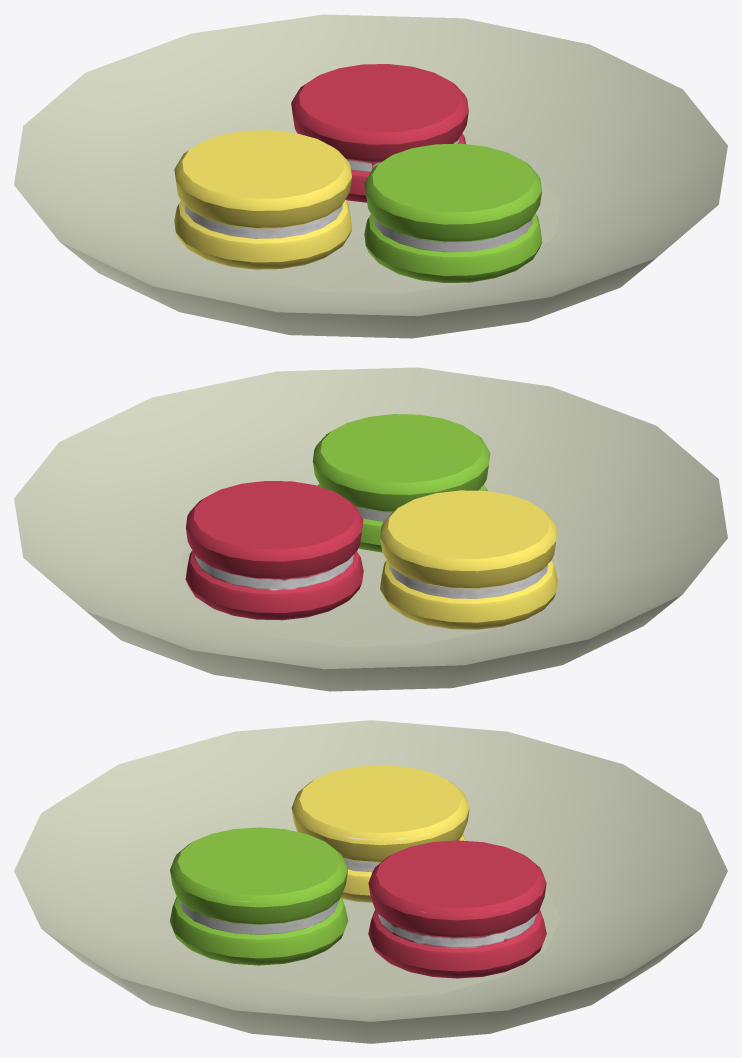
Rendered from Makaron.fbx.
3 renders of one model, top to bottom at view 1: azimuth 30°, elevation 25°; view 2: azimuth 150°, elevation 25°; view 3: azimuth 270°, elevation 25°, orthographic.
Visible parts, largest first — view 1: Makarons; view 2: Makarons; view 3: Makarons.
Part boxes in pixels (left/top/right/bottom): Makarons: left=14, top=14, right=727, bottom=338; Makarons: left=14, top=367, right=727, bottom=691; Makarons: left=14, top=720, right=727, bottom=1043.
Bounding box in the file's own units: 63.43 × 7.44 × 63.43.
